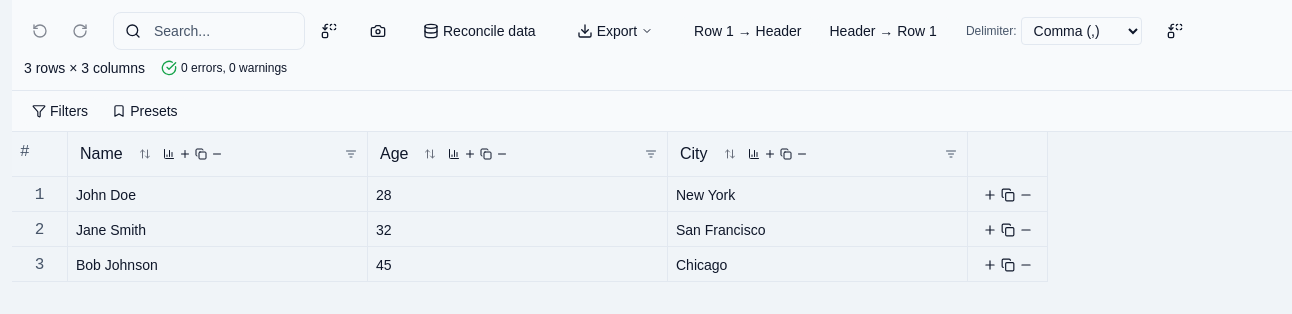
it: CSV Copy Down (Fill Down) context menu › fills the value down and closes the menu on click
Right-click the text "John Doe" at (106, 194), box x1=76 y1=186 x2=136 y2=202
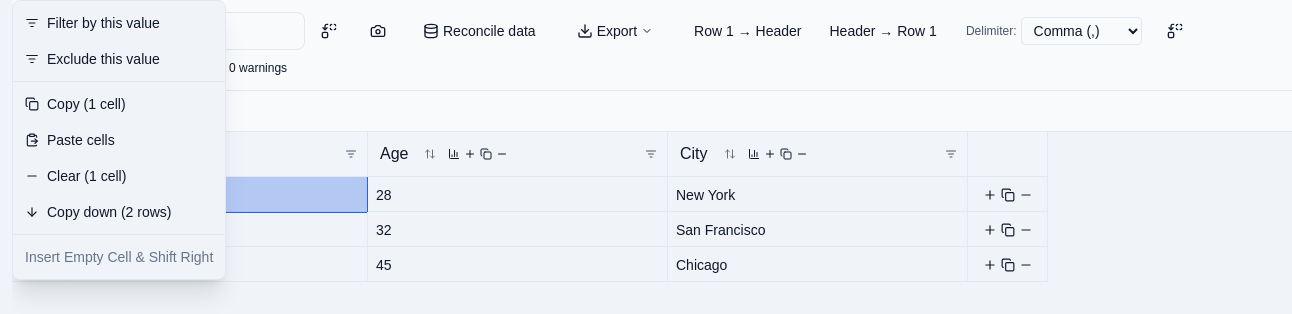
Click the button with test id "fill-down-button" at (119, 212), box x1=13 y1=194 x2=225 y2=230
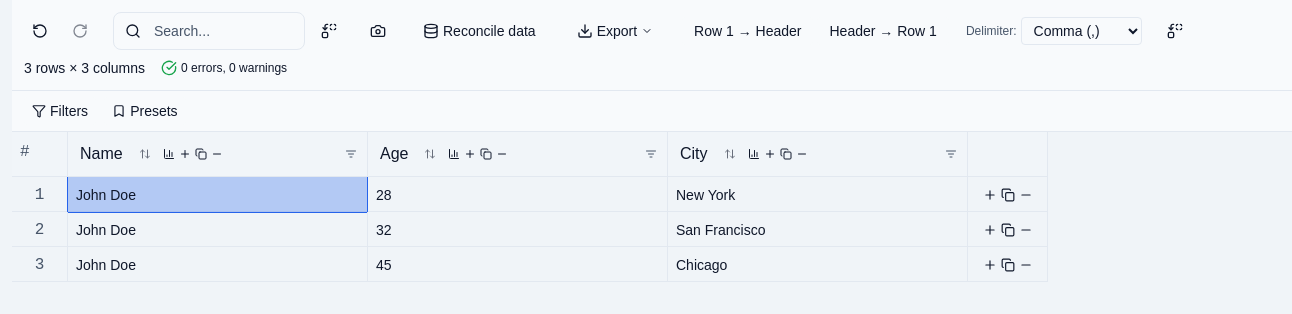
Check: the button with test id "fill-down-button" is gone
